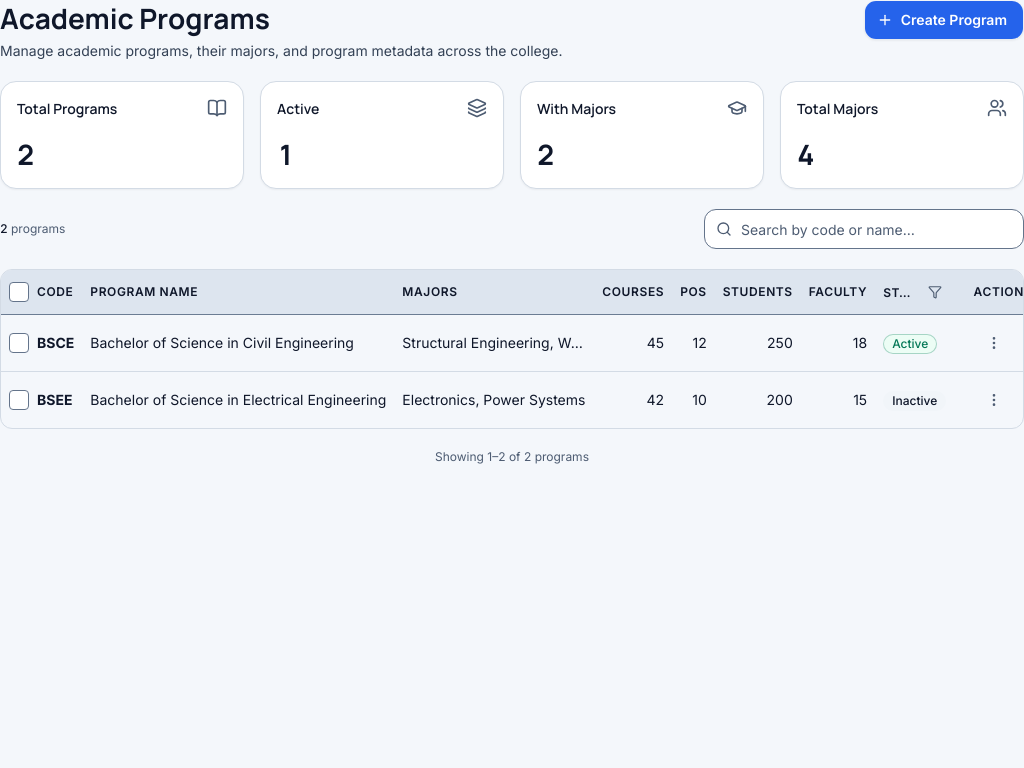
SecretaryProgramsList › creates a program from the dialog and refreshes the list
The image size is (1024, 768).
Click the button "Create Program": (944,20) [864, 0, 1023, 40]
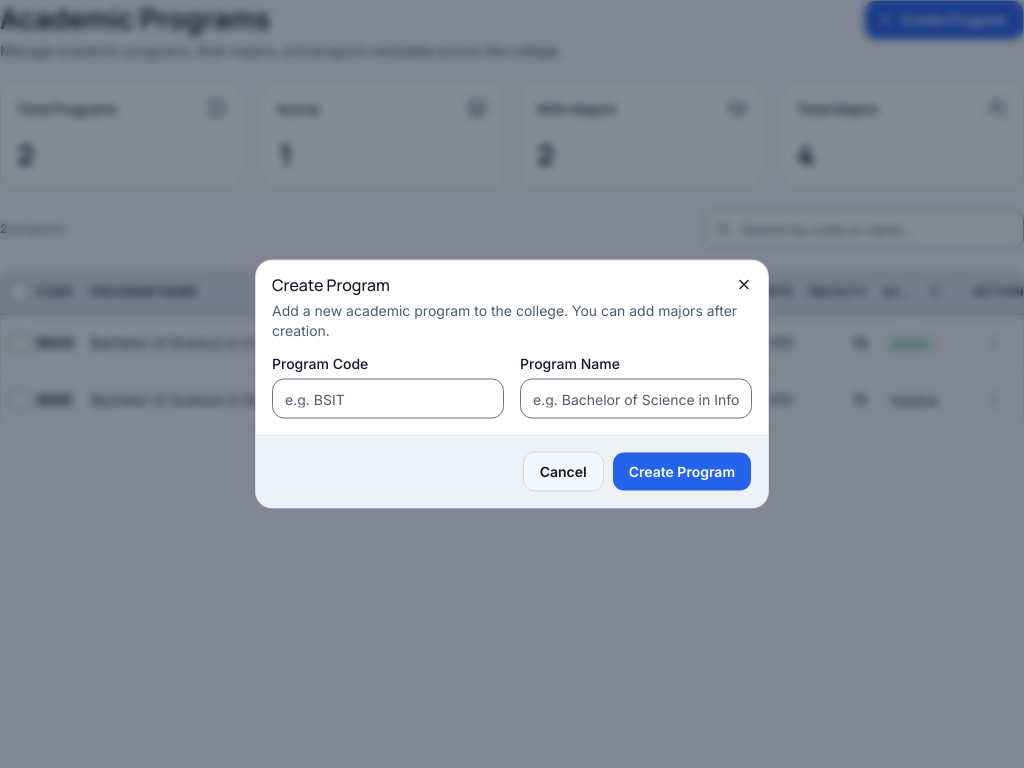
In the field labelled "Program Code": (388,398) [272, 378, 504, 418], type "bscs"
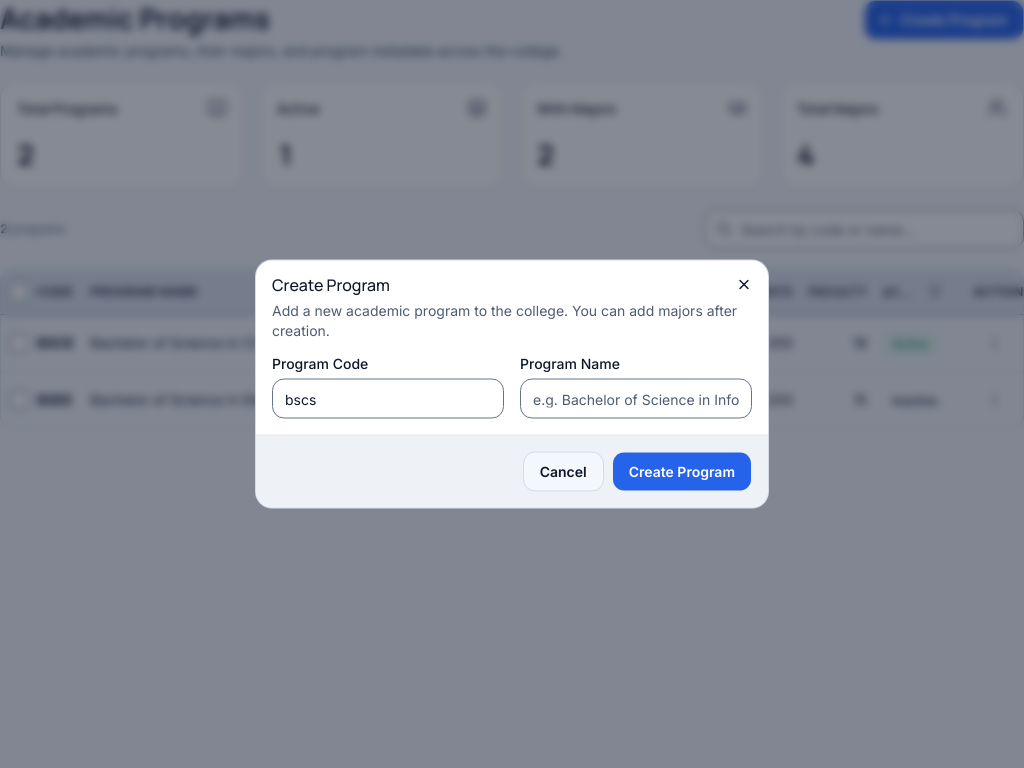
In the field labelled "Program Name": (636,398) [520, 378, 752, 418], type "Bachelor of Science in Computer Science"
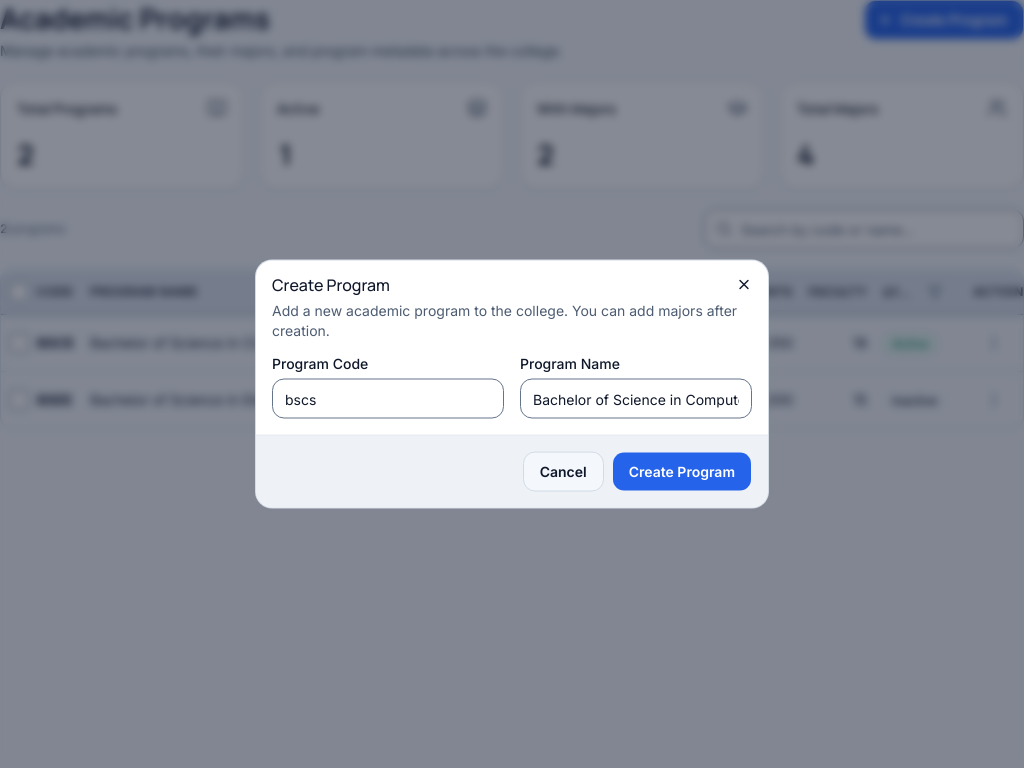
Click the button "Create Program": (682,472) [612, 452, 752, 492]
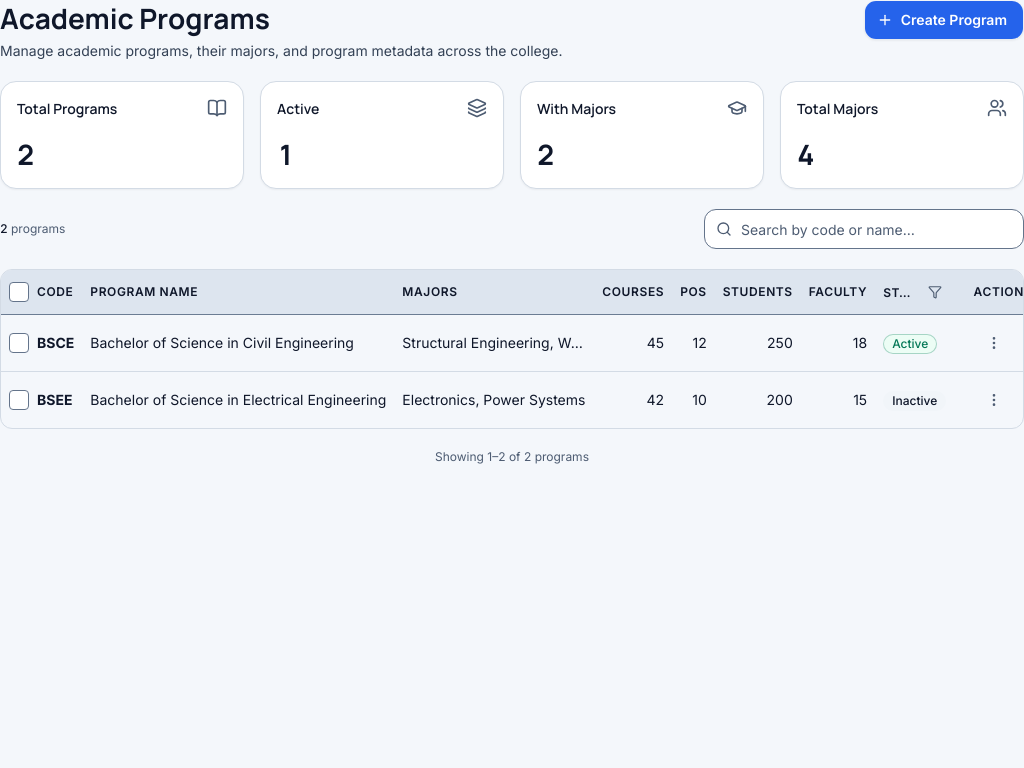
Check: the dialog is gone
